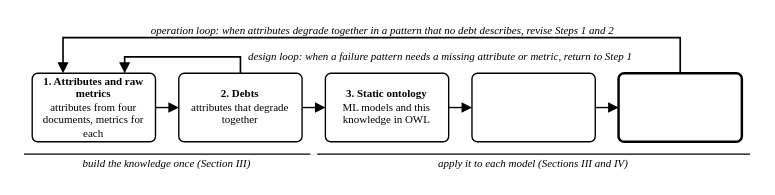
This 775x195 diagram has some shape labels left out. Each missing label, with the centre of its shape:
"4. Model extraction queries read the information of one model" belongs at pixel 533 107.
"5. Monitoring several metrics read together over time" belongs at pixel 679 106.
